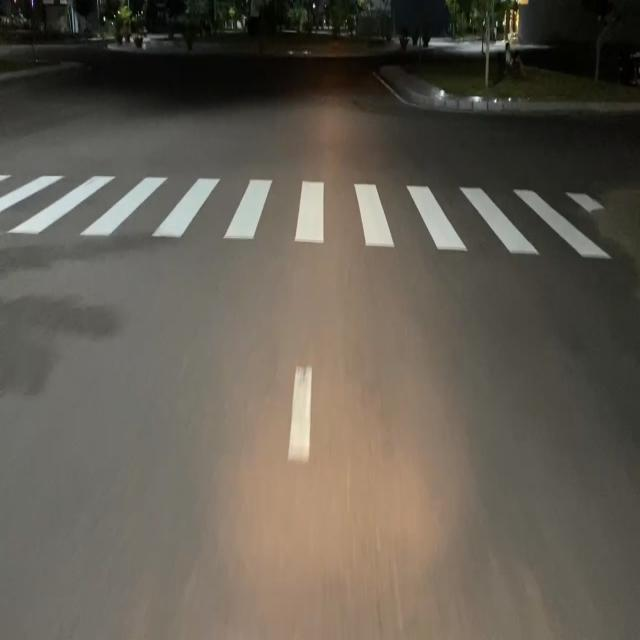walk-crossing: (1, 172, 616, 262)
